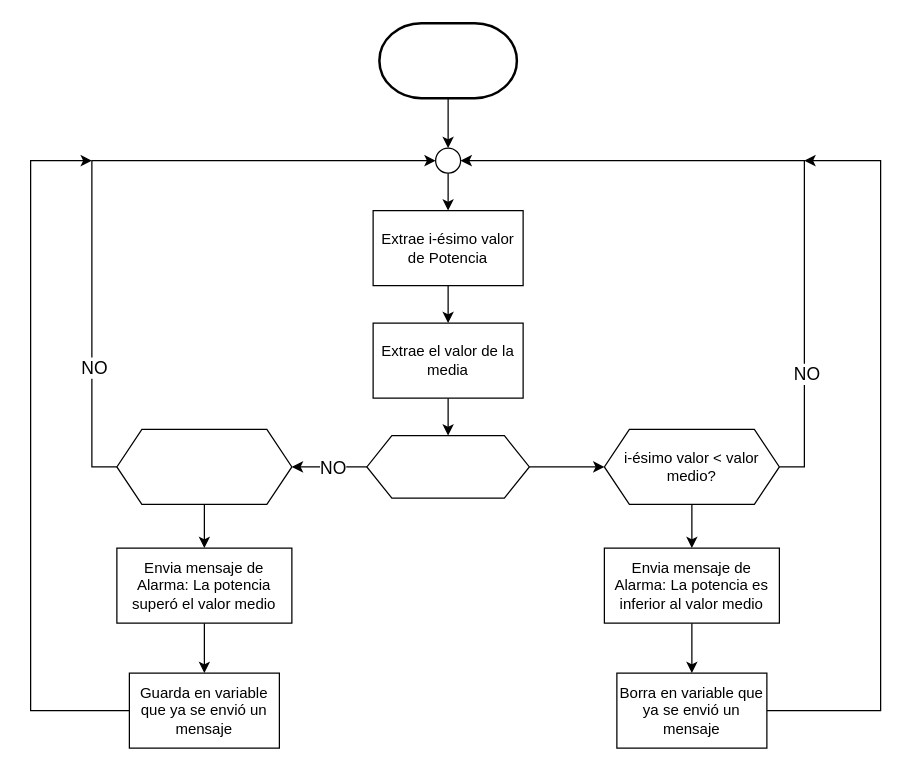
This 913x770 diagram has some shape labels left out. Each missing label, with the box of its shape:
i-ésimo valor > valor medio?: (116, 428, 292, 504)
Sistema de Alarma (INICIO): (378, 21, 518, 99)
Ya se envió un mensaje?: (366, 434, 529, 498)
